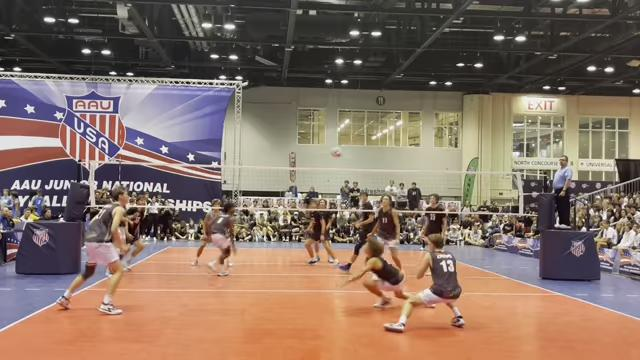difesa: (329, 235, 439, 311)
